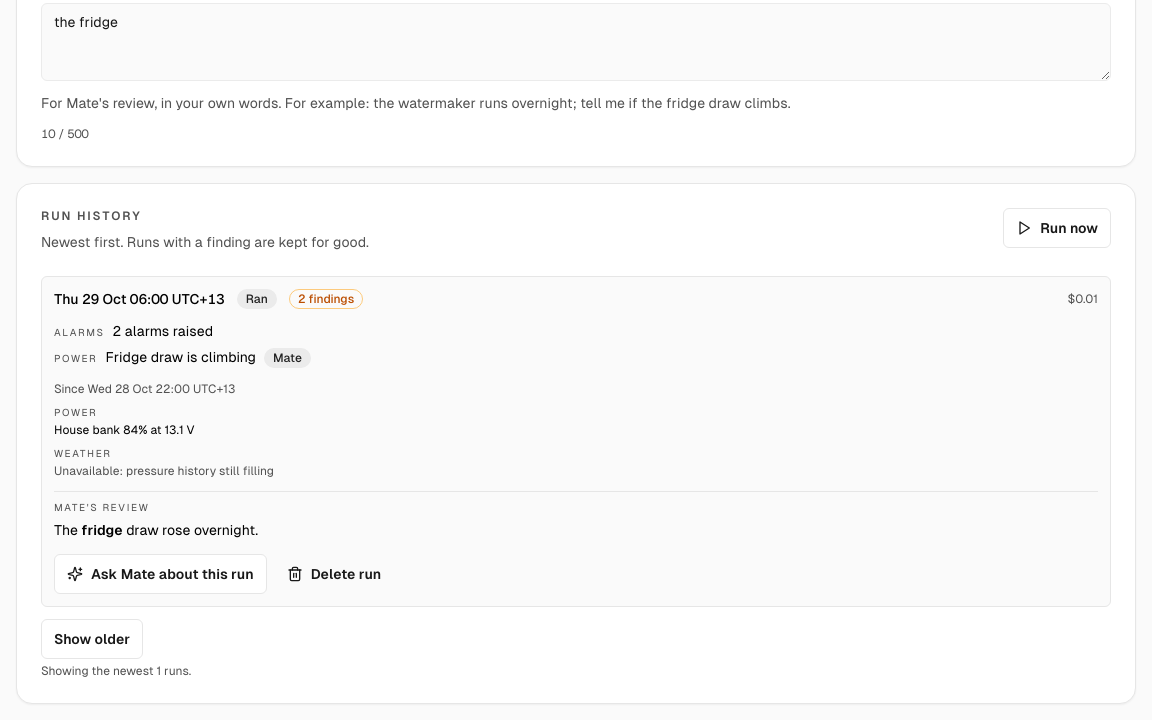
Test case: WatchDetailsPage run history › pages older runs in with Show older
The width and height of the screenshot is (1152, 720).
(page scrolled)
Expected: the element with test id "watch-run" is shown, [41,276,1111,607]
Click the button "Show older" at (92, 638), box [41,618,143,658]
(page scrolled)
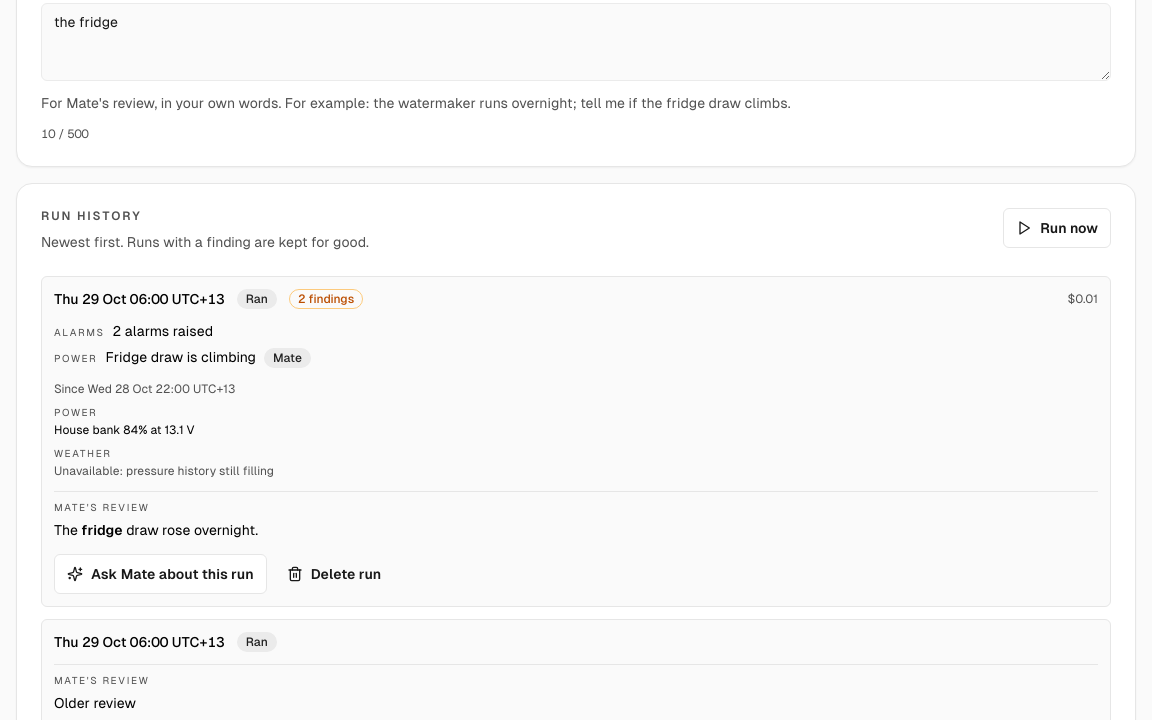
Expected: the button "Show older" is gone
